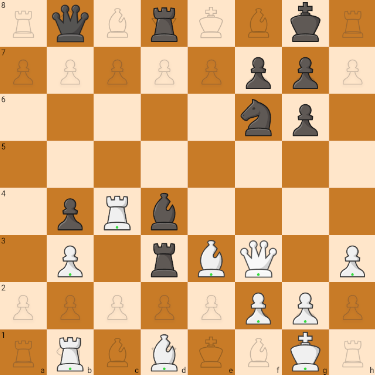bb: (143, 189, 185, 233)
bk: (284, 0, 327, 45)
bn: (237, 95, 278, 138)
bp: (51, 194, 90, 233), (285, 100, 324, 139), (242, 54, 278, 91), (289, 52, 323, 91)
bq: (47, 1, 93, 44)
br: (144, 2, 187, 46), (145, 238, 182, 281)
wb: (141, 330, 188, 375), (190, 239, 230, 281)
wk: (287, 331, 327, 375), (238, 239, 279, 280)
wp: (52, 238, 90, 281), (332, 239, 371, 280), (241, 284, 277, 326), (290, 288, 321, 327)
wr: (50, 332, 88, 372), (99, 190, 135, 232)
